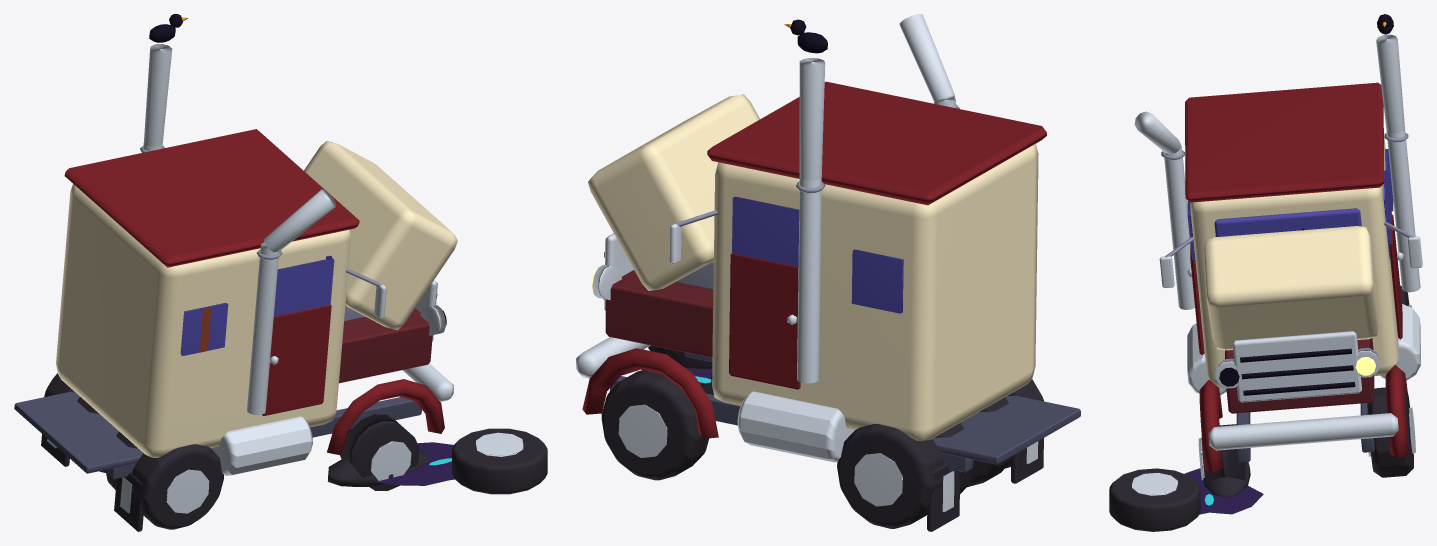
The model's file is wrecked_rig.glb.
3 renders of one model, left to right at view 1: azimuth 30°, elevation 25°; view 2: azimuth 150°, elevation 25°; view 3: azimuth 270°, elevation 25°, orthographic. The views are drawn at different scales.
Parts seen in each view (by area): view 1: Rig; view 2: Rig; view 3: Rig.
Boxes of the visible parts, x1=… form: Rig: x1=14, y1=14, x2=547, y2=531; Rig: x1=576, y1=14, x2=1080, y2=531; Rig: x1=1109, y1=14, x2=1422, y2=531.
Bounding box in the file's own units: 2.93 × 2.97 × 2.02.
